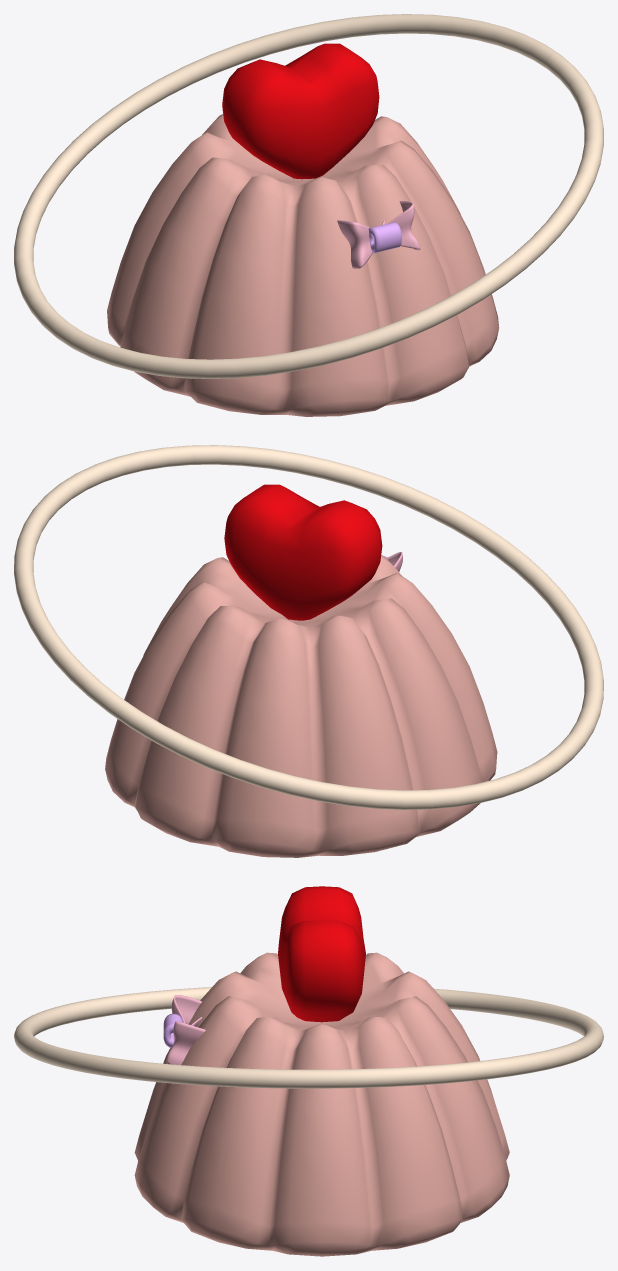
The model's file is mypudding.glb.
3 views of the same model, one above another, from view 1: azimuth 30°, elevation 25°; view 2: azimuth 150°, elevation 25°; view 3: azimuth 270°, elevation 25° (orthographic). The views are drawn at different scales.
Visible parts, largest first — view 1: Cylinder, Torus.001, 큐브.002, 큐브, 큐브.001; view 2: Cylinder, Torus.001, 큐브.002; view 3: Cylinder, Torus.001, 큐브.002, 큐브.
Part boxes in pixels (<box>): Cylinder: <box>107,114,499,416</box>; Torus.001: <box>14,14,603,378</box>; 큐브.002: <box>222,43,379,179</box>; 큐브: <box>337,201,420,268</box>; 큐브.001: <box>368,222,401,253</box>; Cylinder: <box>105,555,497,857</box>; Torus.001: <box>14,445,603,809</box>; 큐브.002: <box>224,484,382,620</box>; Cylinder: <box>134,952,509,1256</box>; Torus.001: <box>14,987,603,1088</box>; 큐브.002: <box>278,886,365,1022</box>; 큐브: <box>166,995,205,1064</box>.
Bounding box in the file's own units: 5.36 × 2.93 × 5.58.
